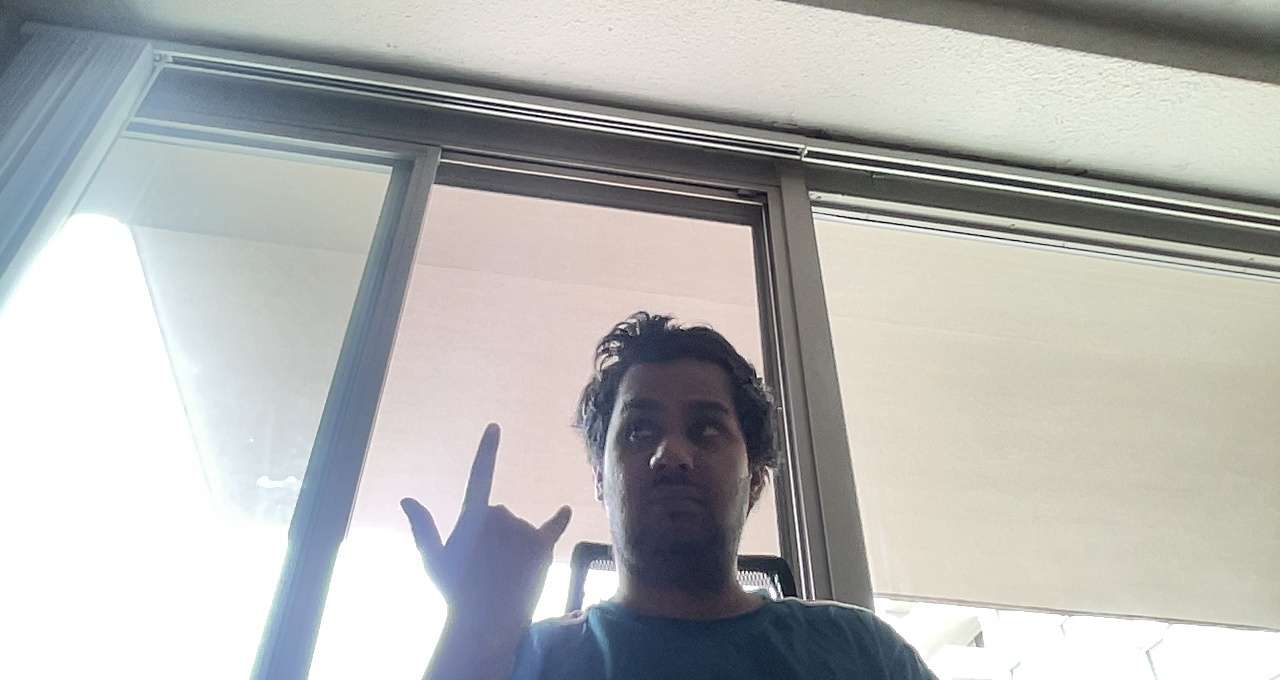rockon sign: (381, 418, 585, 657)
